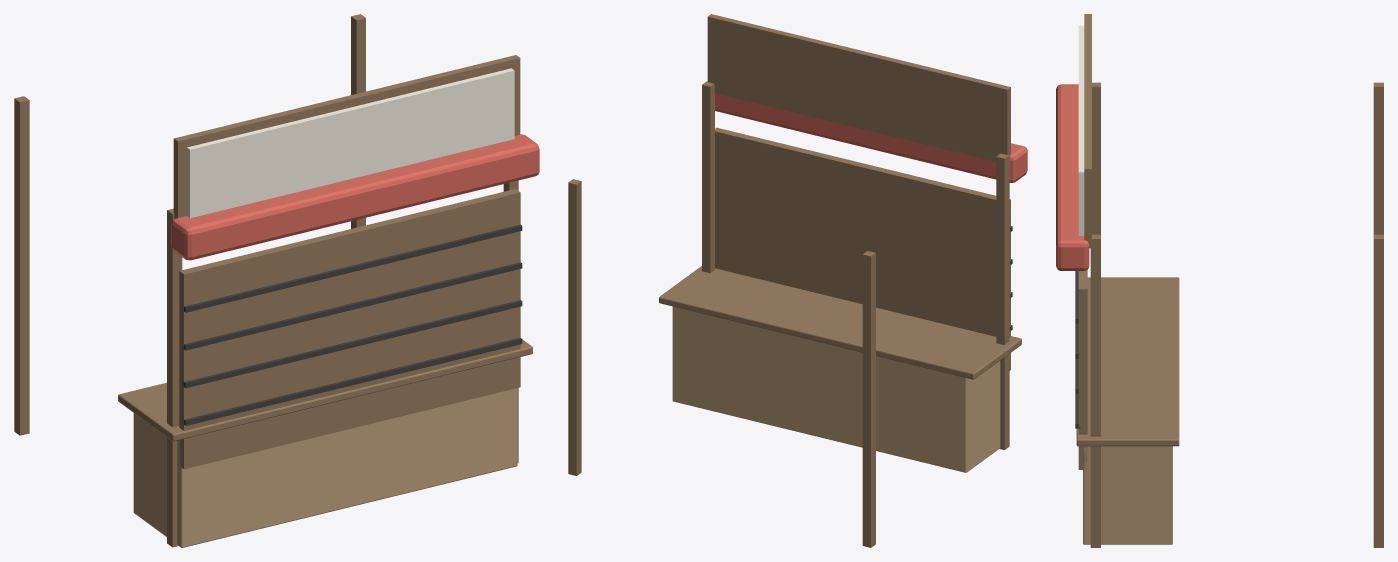
File: BazaarStandClosed.fbx
3 renders of one model, left to right at view 1: azimuth 30°, elevation 25°; view 2: azimuth 150°, elevation 25°; view 3: azimuth 270°, elevation 25°, orthographic. The views are drawn at different scales.
Visible parts, largest first — view 1: BazaarStandClosed; view 2: BazaarStandClosed; view 3: BazaarStandClosed.
Part boxes in pixels (<box>): BazaarStandClosed: <box>14,14,539,547</box>; BazaarStandClosed: <box>568,14,1027,547</box>; BazaarStandClosed: <box>1056,14,1383,547</box>.
Bounding box in the file's own units: 3 × 3.25 × 2.55.
